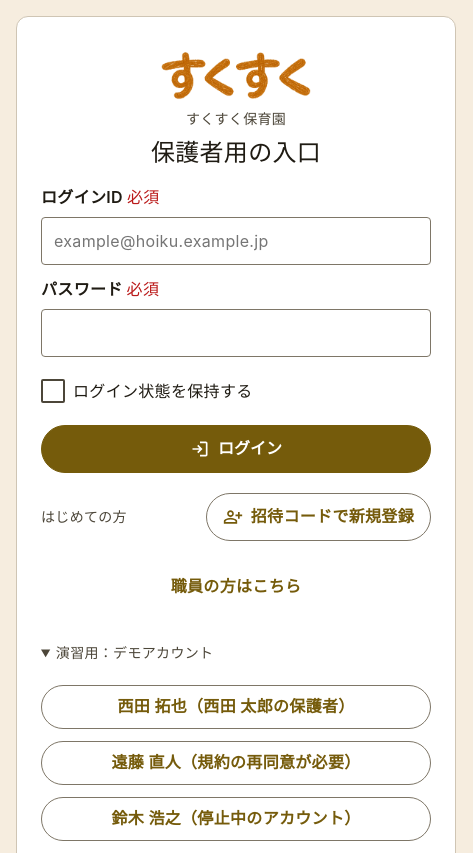
Test: 演習用：デモアカウント › 保護者用トップには保護者のアカウントだけが並ぶ
The width and height of the screenshot is (473, 853).
Check: the heading "演習用：デモアカウント" is shown, box [56,644,213,661]
Click the button "西田 拓也（西田 太郎の保護者）" at (236, 707), box [41,685,431,729]
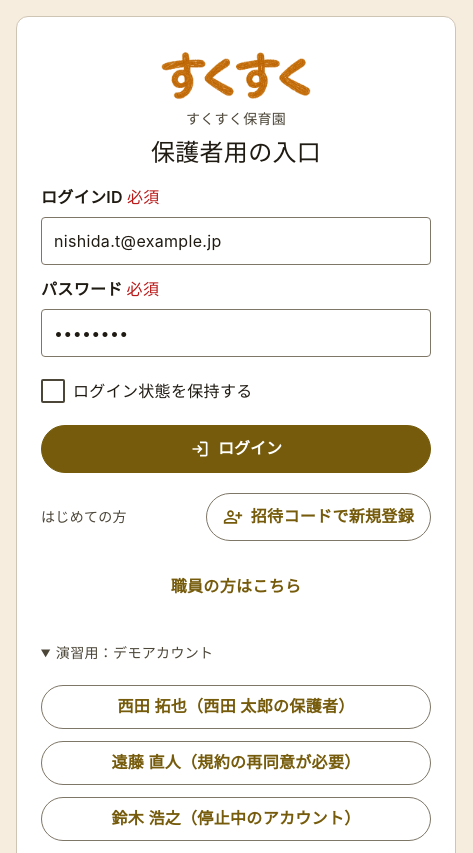
Check: the field labelled "ログインID" holds "nishida.t@example.jp", box [41,217,431,265]
Check: the password field labelled "パスワード" holds "pass1234", box [41,309,431,357]
